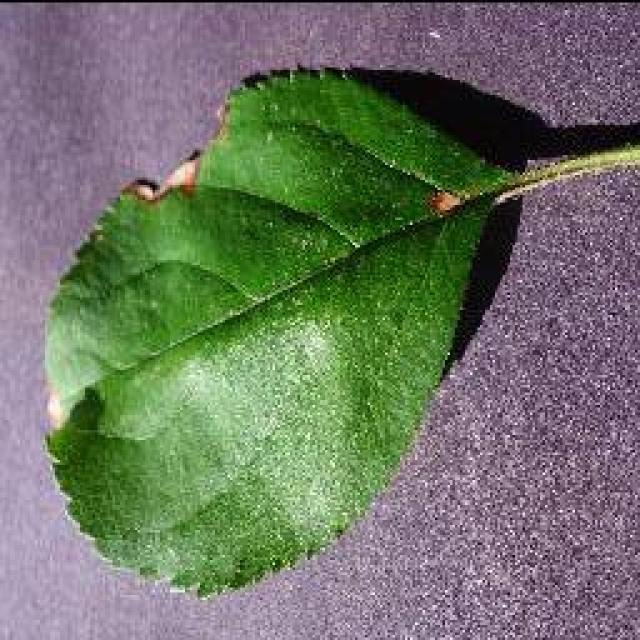apple black rot: (38, 60, 638, 600)
